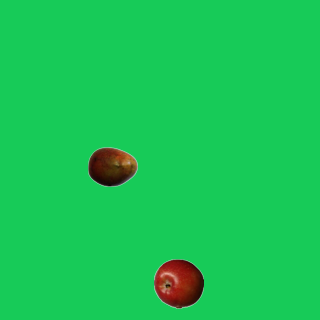Apple Braeburn: (153, 258, 203, 308)
Mango Red: (87, 141, 137, 191)
